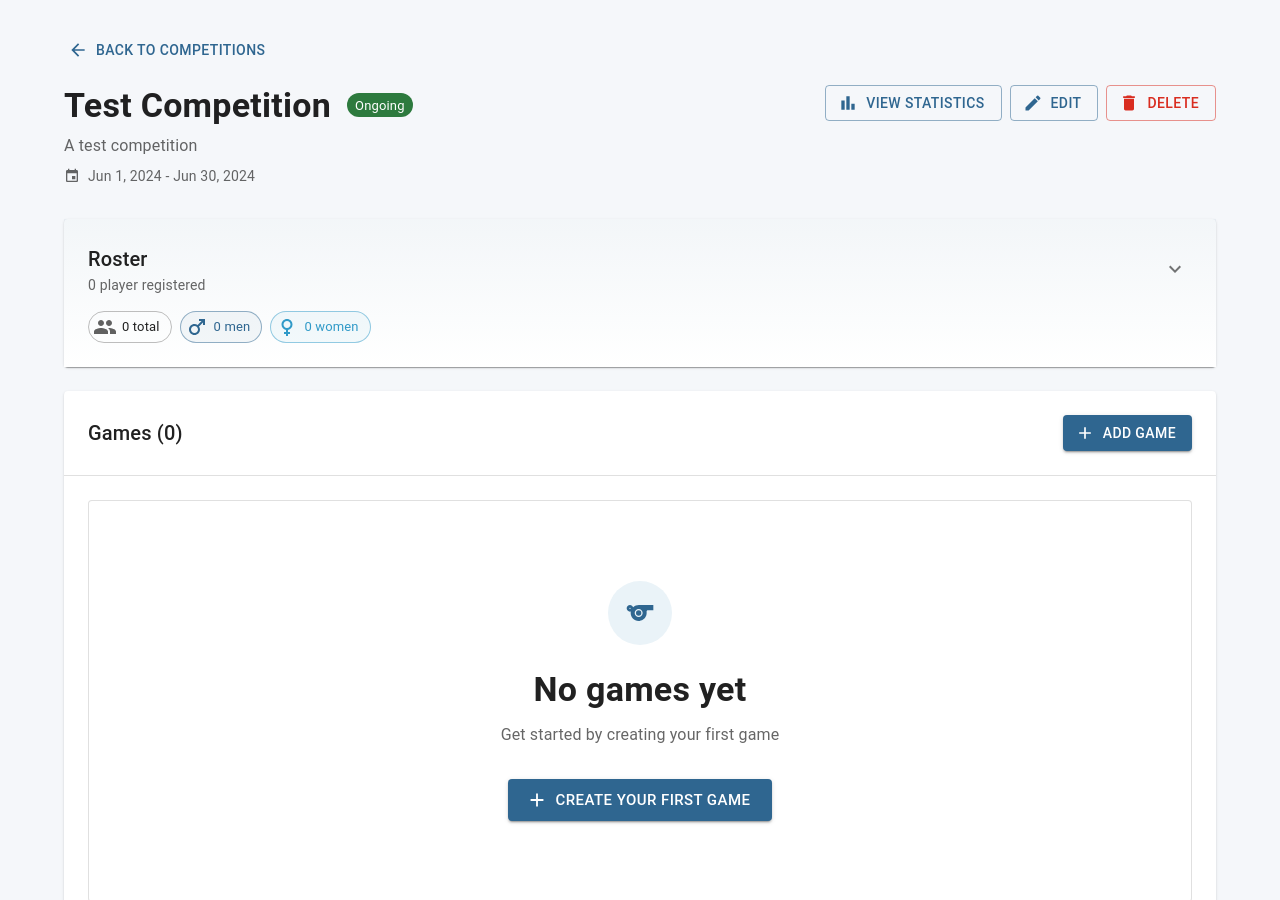
Test: CompetitionDetailPage › allows creating a game for the competition
Check: the heading "Test Competition" is shown, box [64,84,331,126]
Check: the heading "Games (0)" is shown, box [88,417,183,449]
// Click "Add Game" button
Click the button "Add Game". click: (1127,433)
box: [1063,414,1192,451]
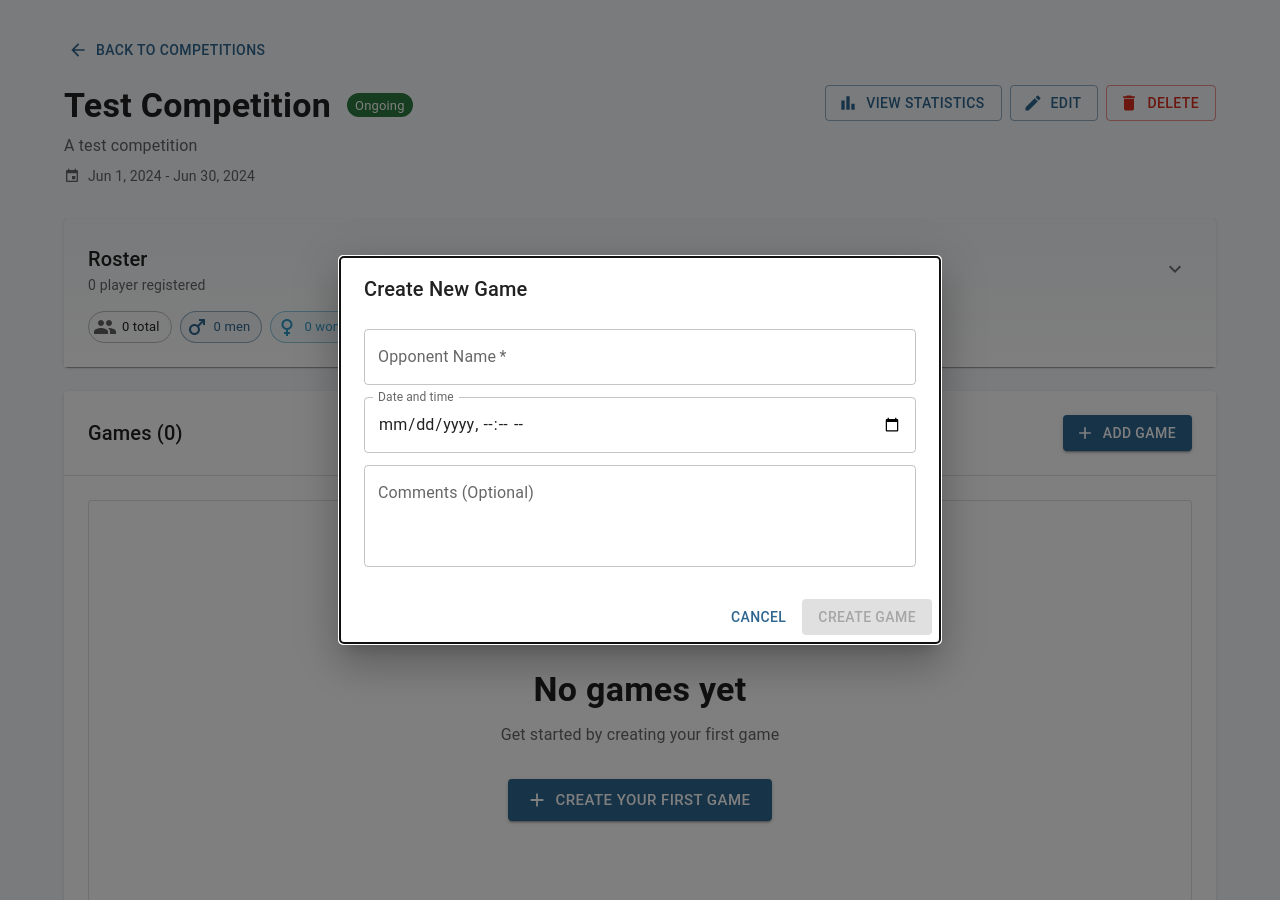
Check: the dialog is shown, box [340,257,940,643]
// Fill in opponent name
Type "Rival Team" into the field labelled "Opponent Name *". click: (640,357)
box: [364,329,916,385]
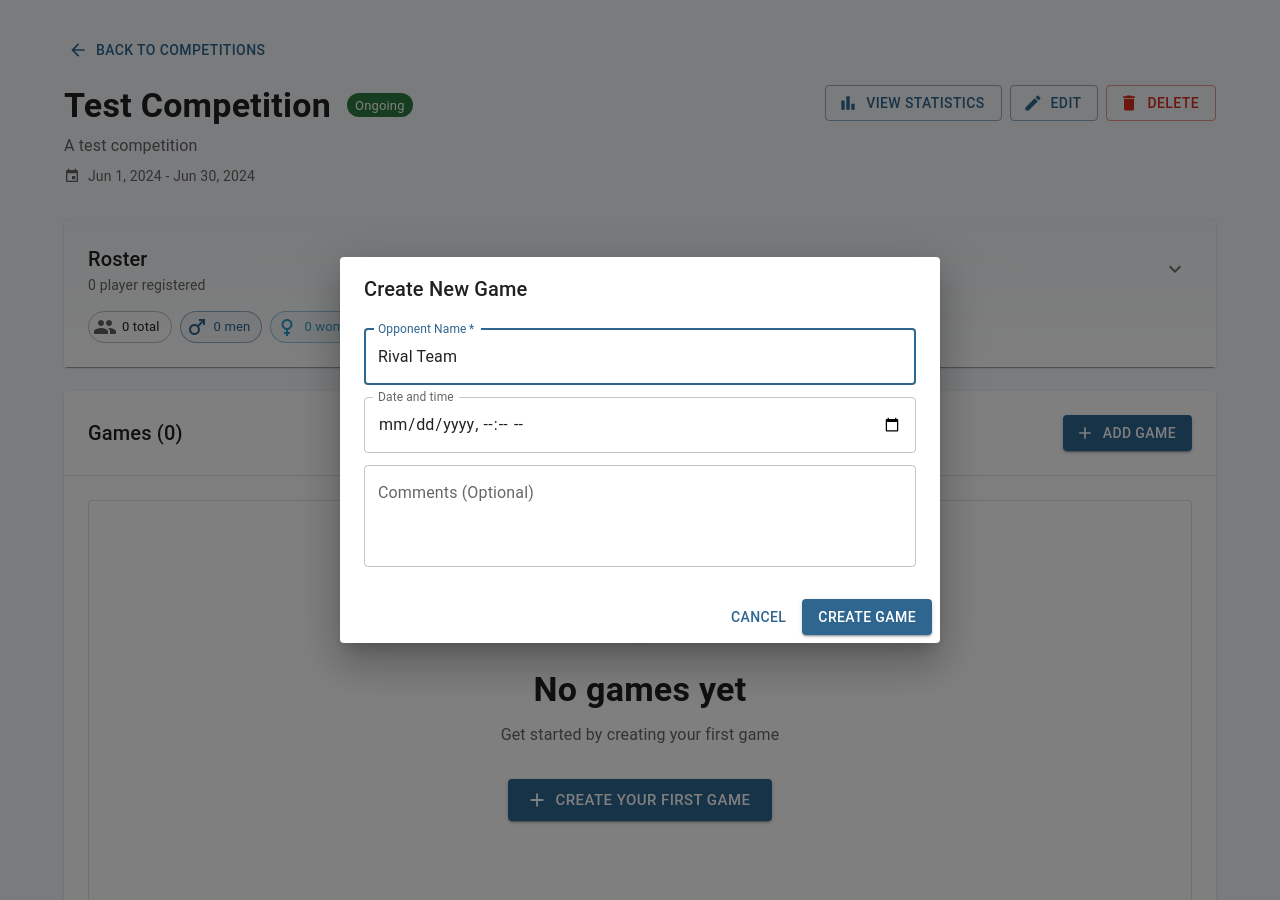
// Submit form
Click the button "Create Game". click: (867,617)
box: [802,599,932,635]
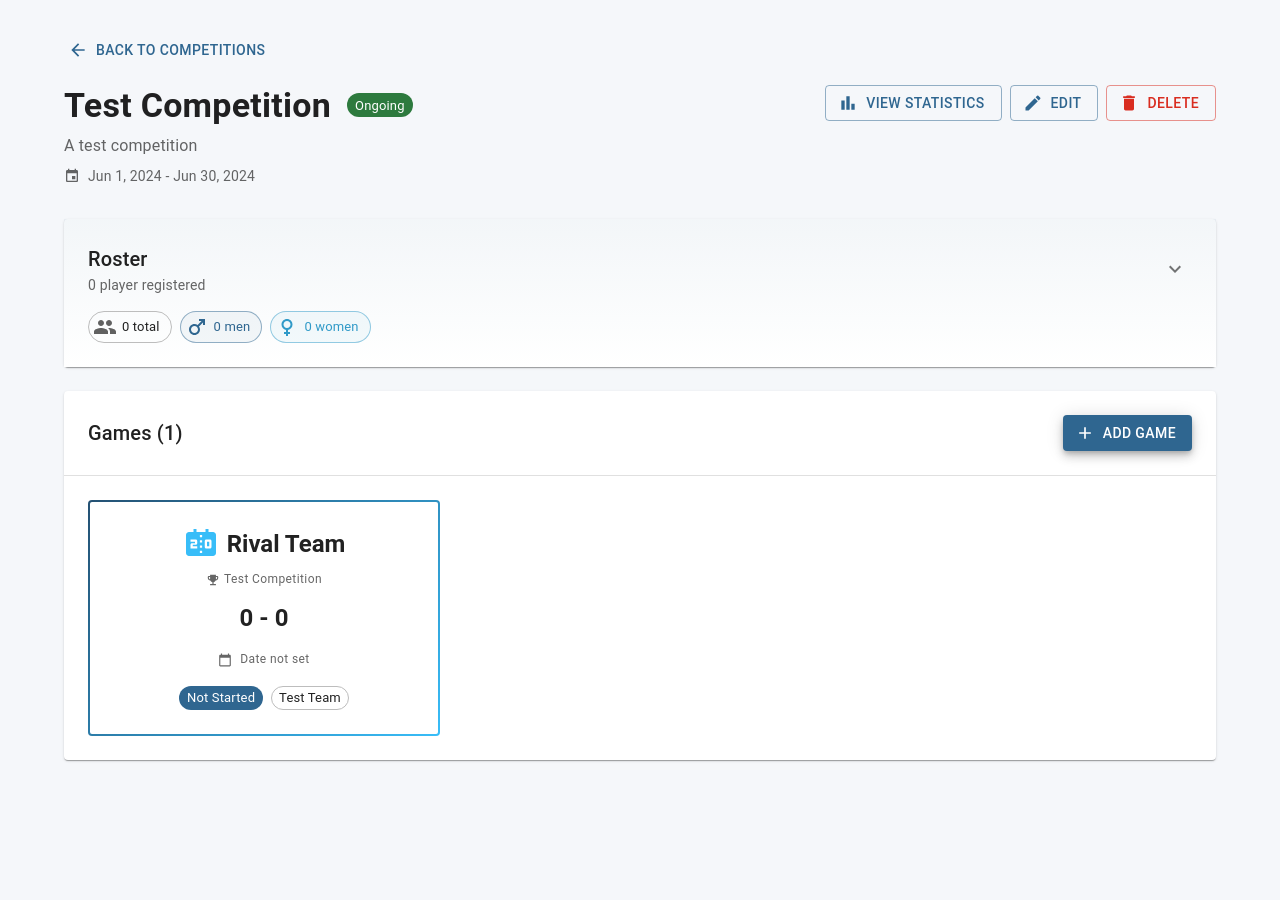
Check: the dialog is gone
Check: the heading "Rival Team" is shown, box [227,528,345,560]
Check: the heading "Games (1)" is shown, box [88,417,183,449]
